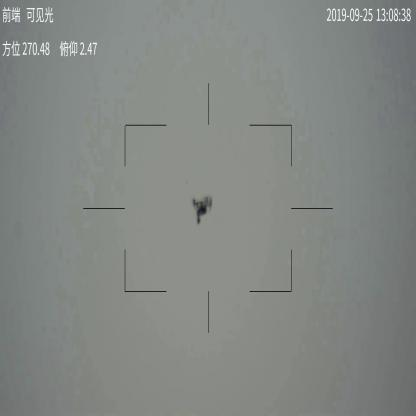uav: (191, 195, 216, 225)
